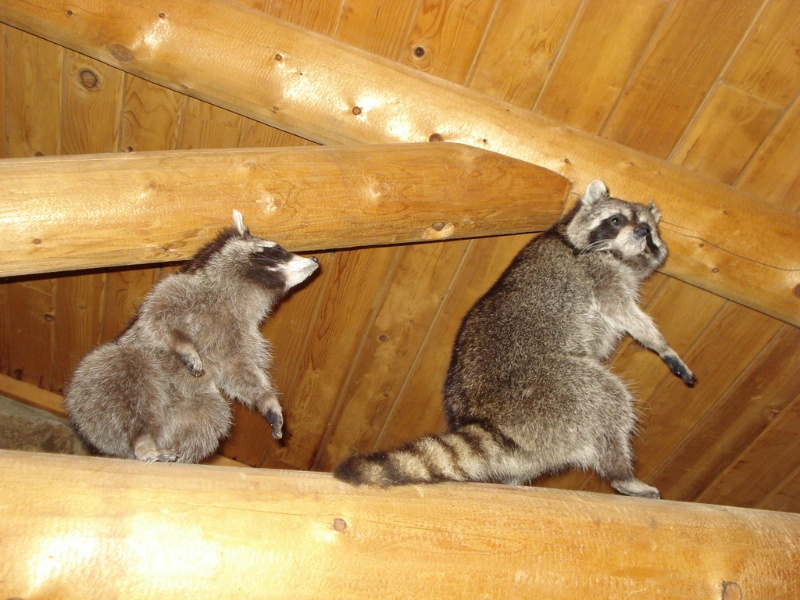raccoon: (336, 177, 698, 506), (1, 213, 324, 479)
